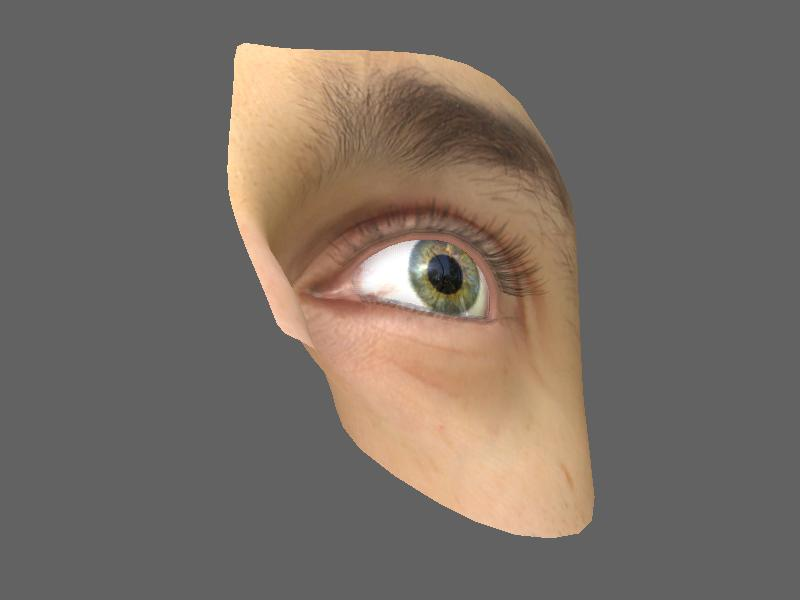iris: (410, 238, 489, 318)
